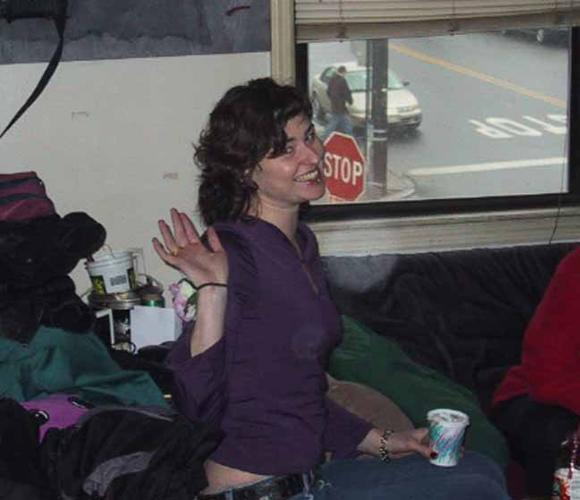person: (150, 79, 509, 500)
